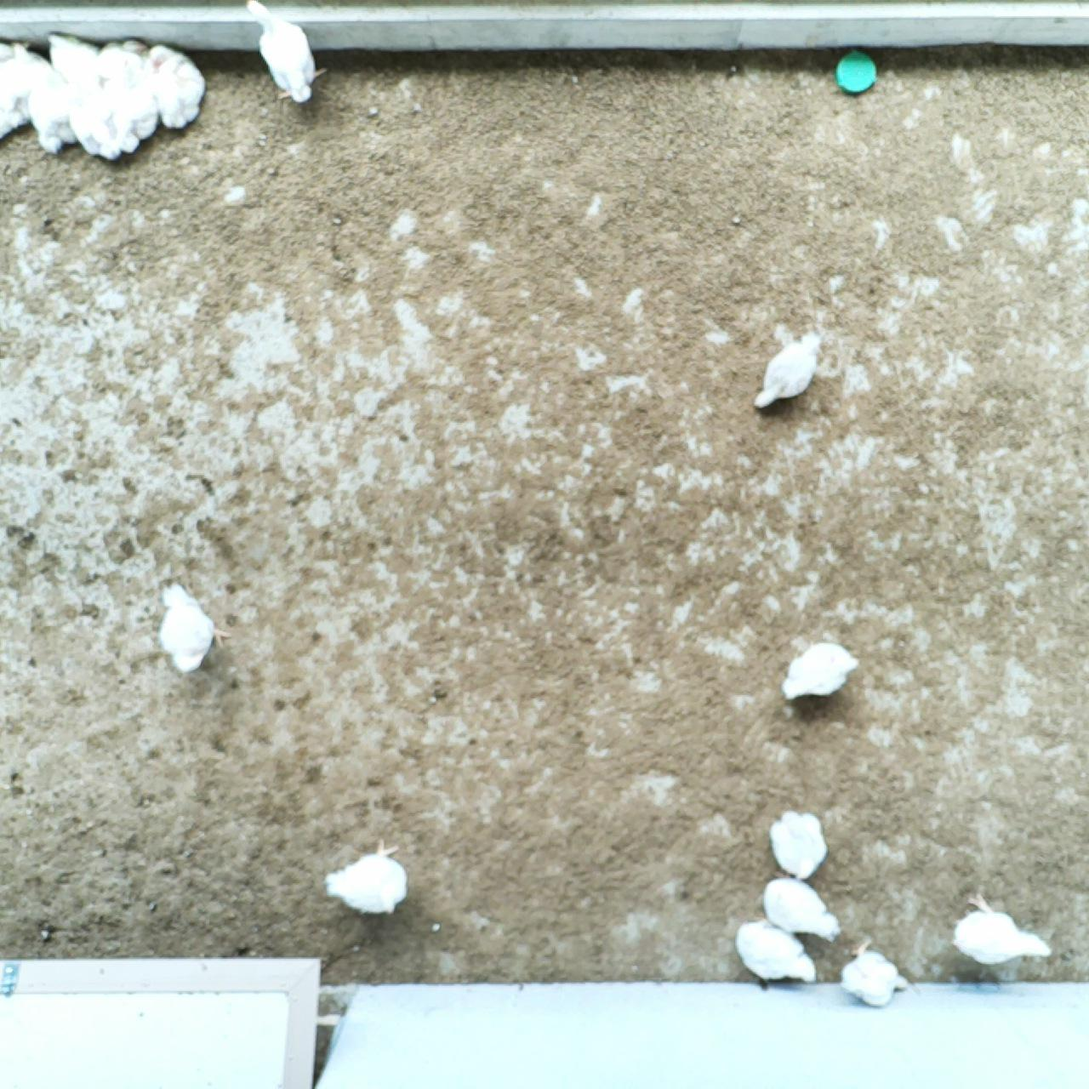chicken: (242, 0, 333, 108), (946, 891, 1051, 968), (322, 833, 416, 918), (154, 578, 232, 678), (747, 328, 827, 415), (23, 54, 80, 154), (64, 74, 130, 160), (734, 918, 817, 986), (759, 874, 844, 940), (778, 639, 862, 705), (838, 941, 912, 1009), (97, 68, 162, 142), (769, 808, 829, 881), (148, 42, 196, 129), (0, 38, 40, 138), (92, 36, 155, 88), (46, 33, 99, 90)
